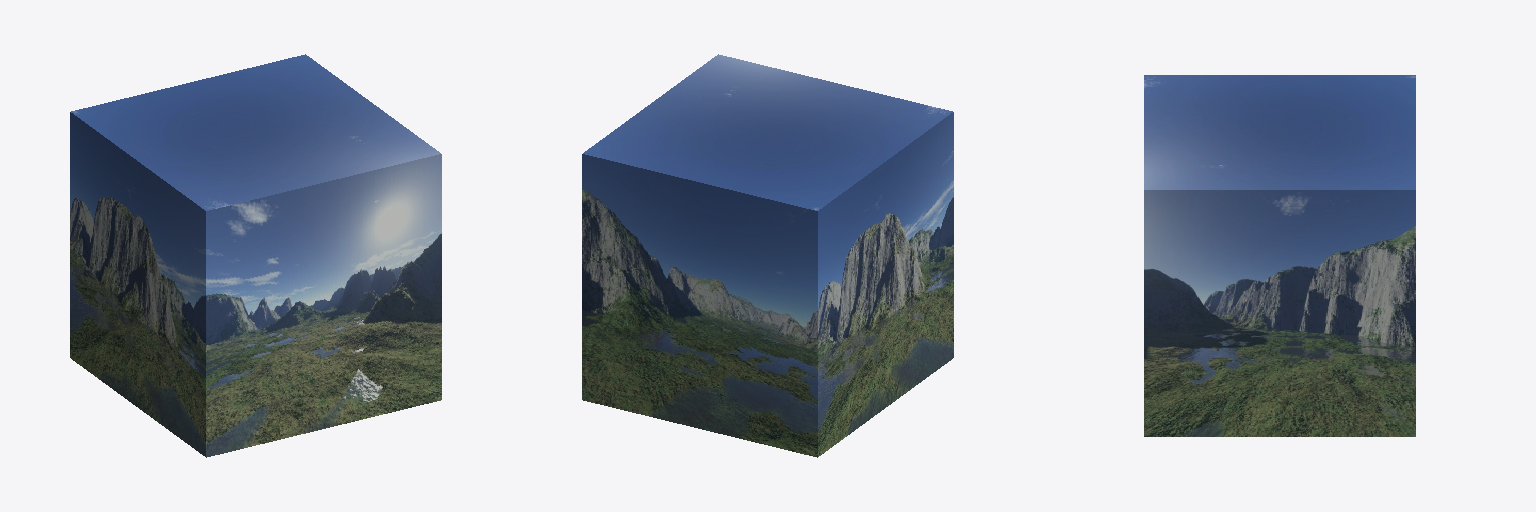
The picture shows the model from 3 angles: view 1: azimuth 30°, elevation 25°; view 2: azimuth 150°, elevation 25°; view 3: azimuth 270°, elevation 25°; orthographic projection.
Parts seen in each view (by area): view 1: skybox_Cube.001; view 2: skybox_Cube.001; view 3: skybox_Cube.001.
Part boxes in pixels (bbox=[...]): skybox_Cube.001: bbox=[70, 54, 441, 457]; skybox_Cube.001: bbox=[582, 54, 953, 457]; skybox_Cube.001: bbox=[1144, 75, 1415, 436].
Bounding box in the file's own units: 1600 × 1600 × 1600.
Materials: 1 (1 with a texture image).